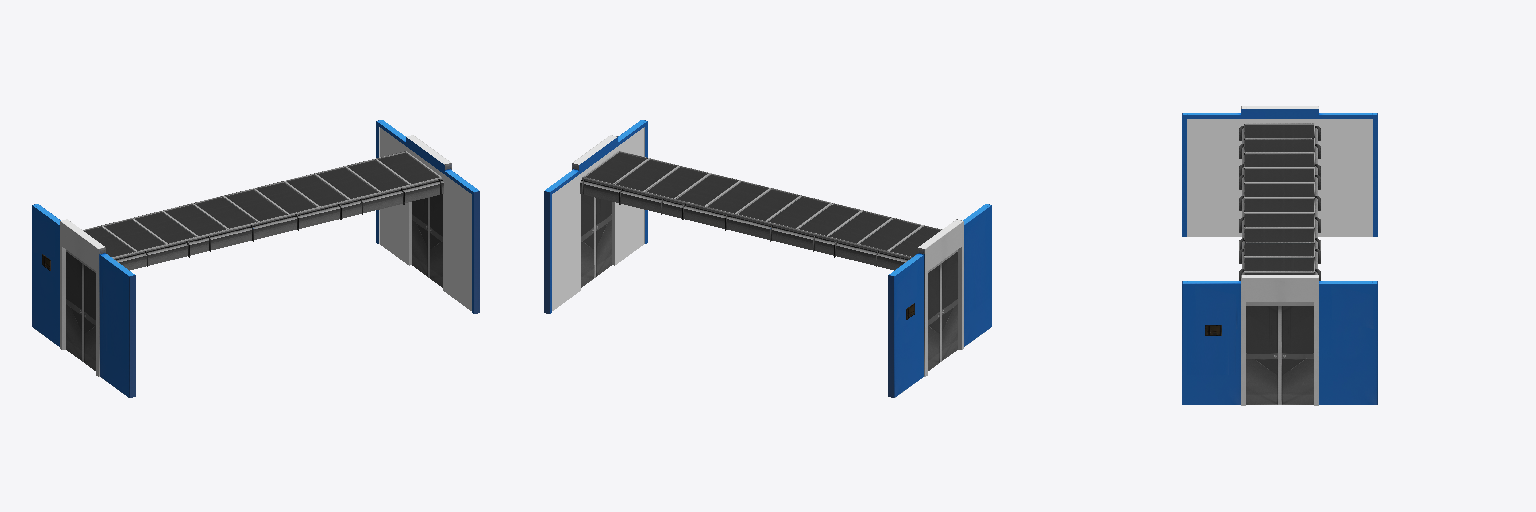
3 renders of one model, left to right at view 1: azimuth 30°, elevation 25°; view 2: azimuth 150°, elevation 25°; view 3: azimuth 270°, elevation 25°, orthographic.
Visible parts, largest first — view 1: set7G1200; view 2: set7G1200; view 3: set7G1200.
Part boxes in pixels (x1,y1,x2,y2): set7G1200: (32,120,479,397); set7G1200: (544,120,991,397); set7G1200: (1182,106,1377,405).
Size of the model in its own units: 7.52 by 2.6 by 3.6.
Materials: 1 (1 with a texture image).